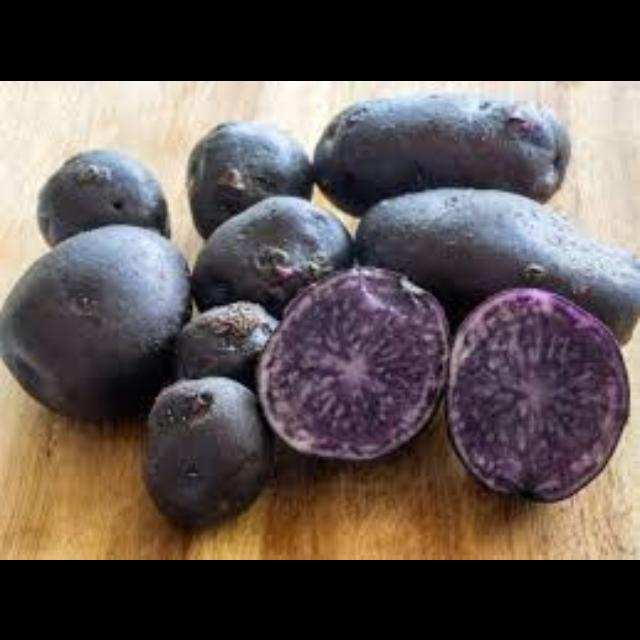Damaged potato: (348, 182, 640, 320), (7, 225, 195, 428), (310, 80, 576, 198), (196, 194, 358, 314), (140, 375, 270, 519), (170, 114, 314, 230), (29, 139, 174, 249), (169, 299, 277, 393)
Defected potato: (450, 288, 636, 512), (258, 262, 450, 458)
